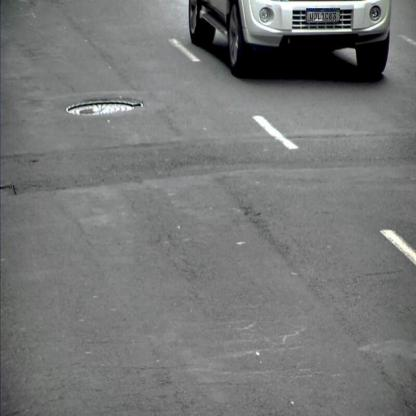PlacaM: (306, 8, 340, 22)
